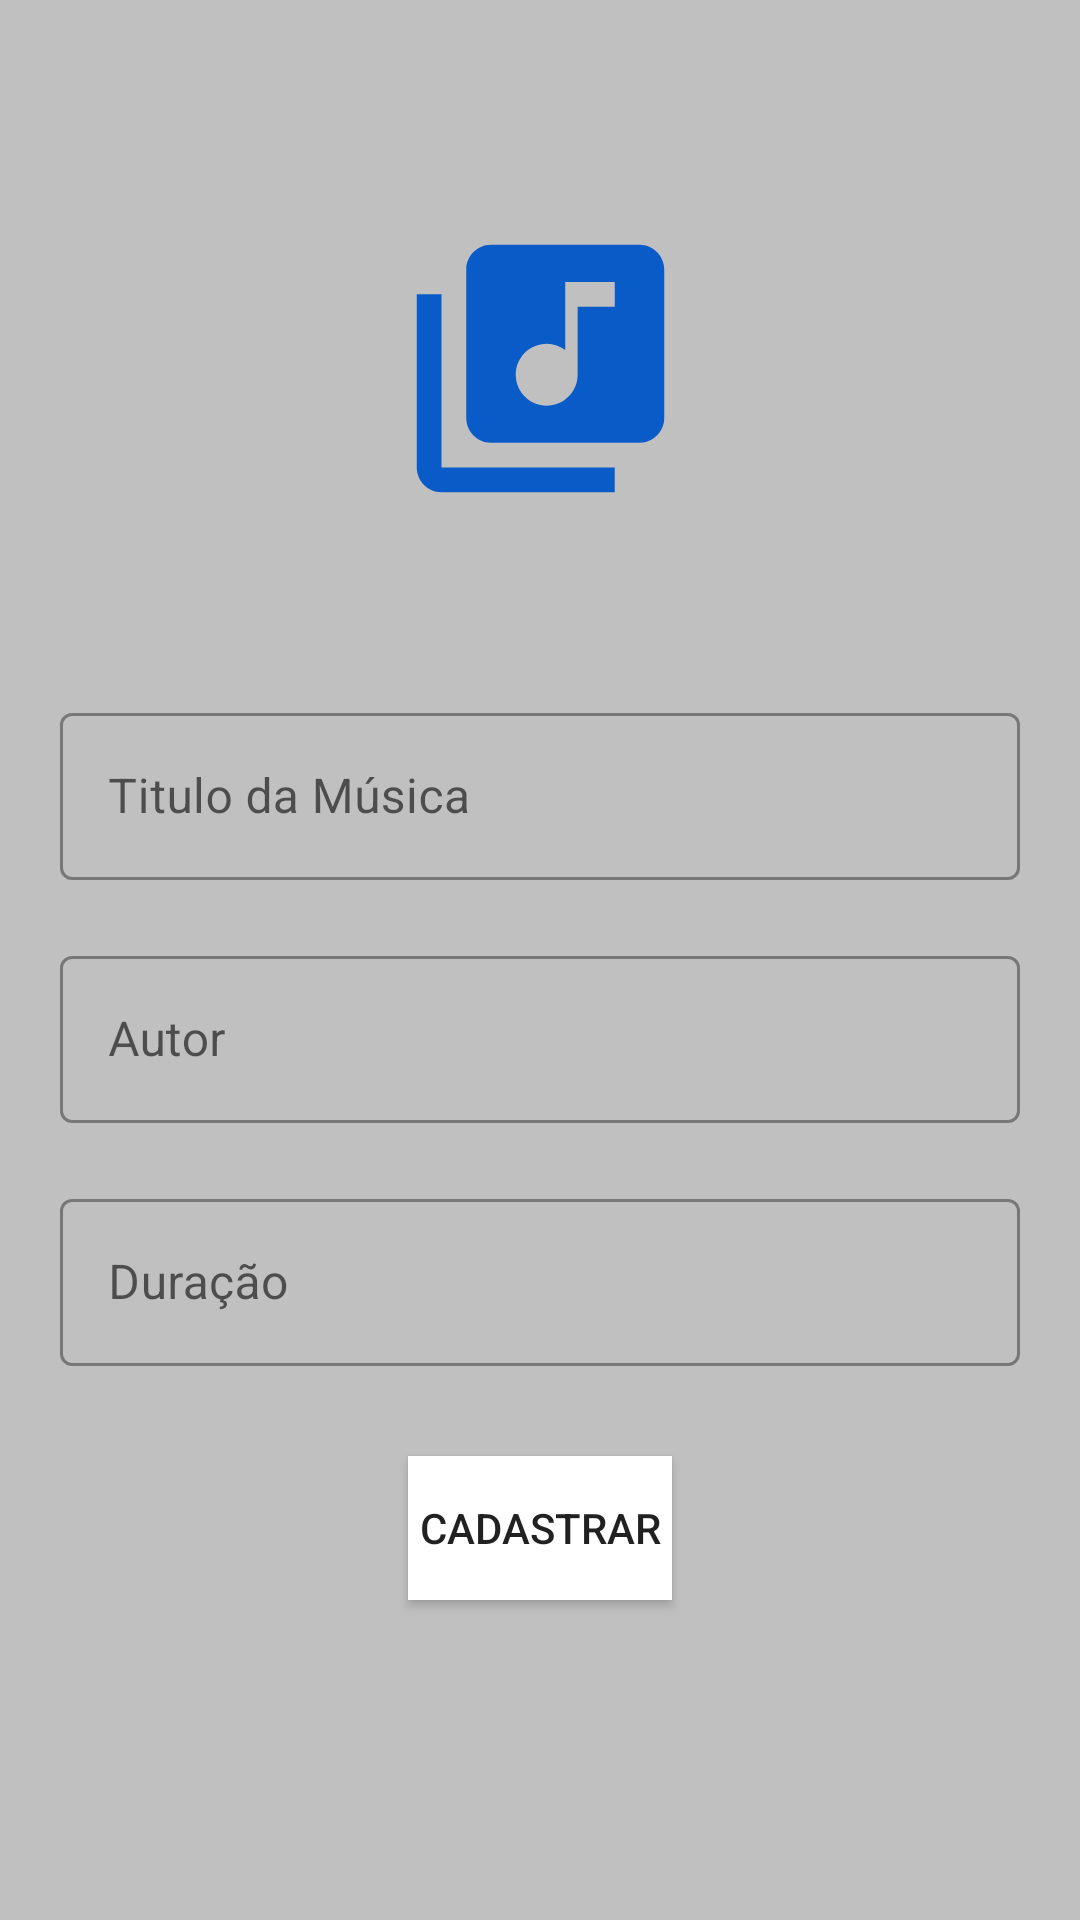

Icons on this 1080×1920 Android screen, each with the point to tap as [x,y]:
music: [540,368]
